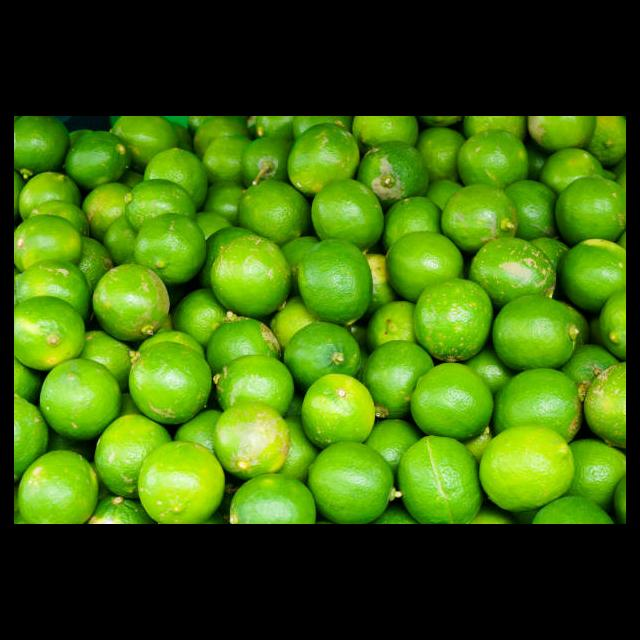lime: (210, 232, 297, 322), (408, 362, 496, 442), (466, 228, 557, 305), (413, 279, 492, 363), (91, 265, 171, 343), (213, 405, 290, 479), (352, 141, 431, 208)
